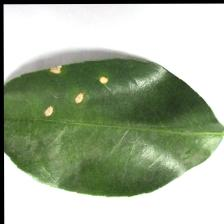canker: (35, 60, 111, 122)
